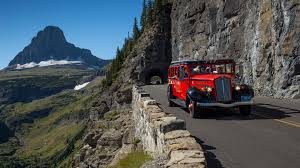bus: (165, 59, 256, 119)
